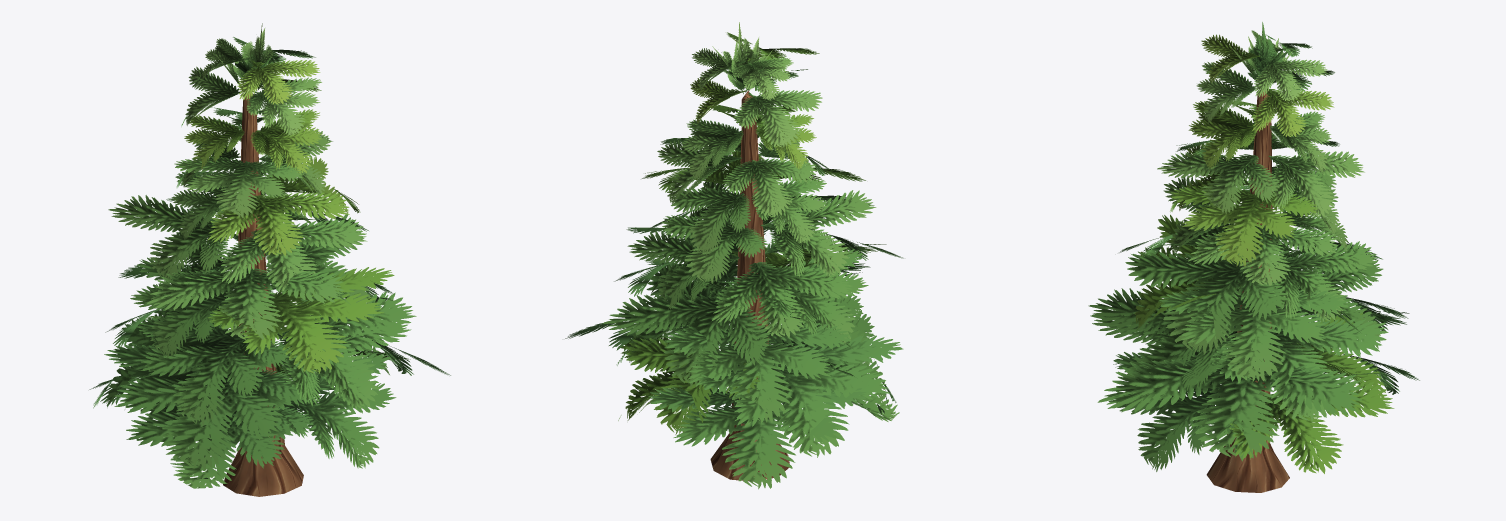
File: fir_small.glb
The picture shows the model from 3 angles, left to right: view 1: azimuth 30°, elevation 25°; view 2: azimuth 150°, elevation 25°; view 3: azimuth 270°, elevation 25°; orthographic projection. The views are drawn at different scales.
Parts seen in each view (by area): view 1: fir_small_leaves_LOD0, fir_small_trunk_LOD0; view 2: fir_small_leaves_LOD0, fir_small_trunk_LOD0; view 3: fir_small_leaves_LOD0, fir_small_trunk_LOD0.
Boxes of the visible parts, bbox=[...] form: fir_small_leaves_LOD0: bbox=[89, 23, 450, 488]; fir_small_trunk_LOD0: bbox=[223, 93, 303, 496]; fir_small_leaves_LOD0: bbox=[565, 22, 903, 489]; fir_small_trunk_LOD0: bbox=[710, 91, 789, 481]; fir_small_leaves_LOD0: bbox=[1088, 22, 1419, 473]; fir_small_trunk_LOD0: bbox=[1206, 91, 1289, 492].
Size of what is drawn, in the model's own units: 5.61 by 6.31 by 5.94.
Materials: 2 (2 with a texture image).
